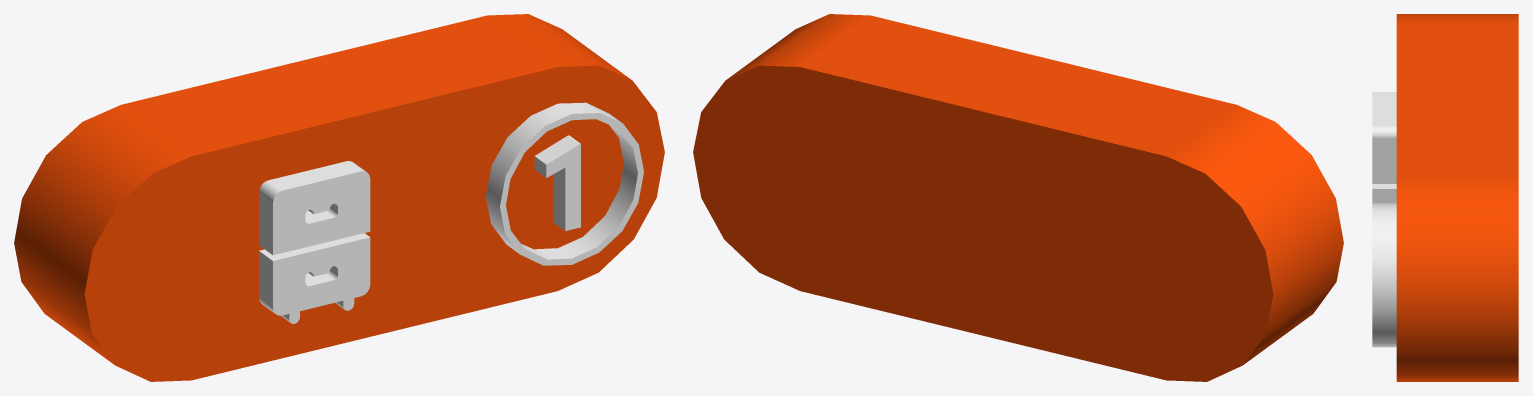
The model's file is Storage_1.fbx.
The picture shows the model from 3 angles, left to right: view 1: azimuth 30°, elevation 25°; view 2: azimuth 150°, elevation 25°; view 3: azimuth 270°, elevation 25°; orthographic projection. The views are drawn at different scales.
Parts seen in each view (by area): view 1: Orange, Object_2, Object_5, Object_6, Object_4; view 2: Orange; view 3: Orange, Object_2, Object_5, Object_6.
Boxes of the visible parts, left/top/right/bottom form: Orange: left=14, top=14, right=664, bottom=381; Object_2: left=485, top=102, right=643, bottom=265; Object_5: left=259, top=161, right=370, bottom=255; Object_6: left=259, top=233, right=370, bottom=315; Object_4: left=534, top=135, right=580, bottom=230; Orange: left=693, top=14, right=1343, bottom=381; Orange: left=1396, top=14, right=1518, bottom=381; Object_2: left=1372, top=203, right=1396, bottom=347; Object_5: left=1372, top=92, right=1396, bottom=183; Object_6: left=1372, top=184, right=1396, bottom=203.
Bounding box in the file's own units: 4.75 × 1.2 × 1.75.
